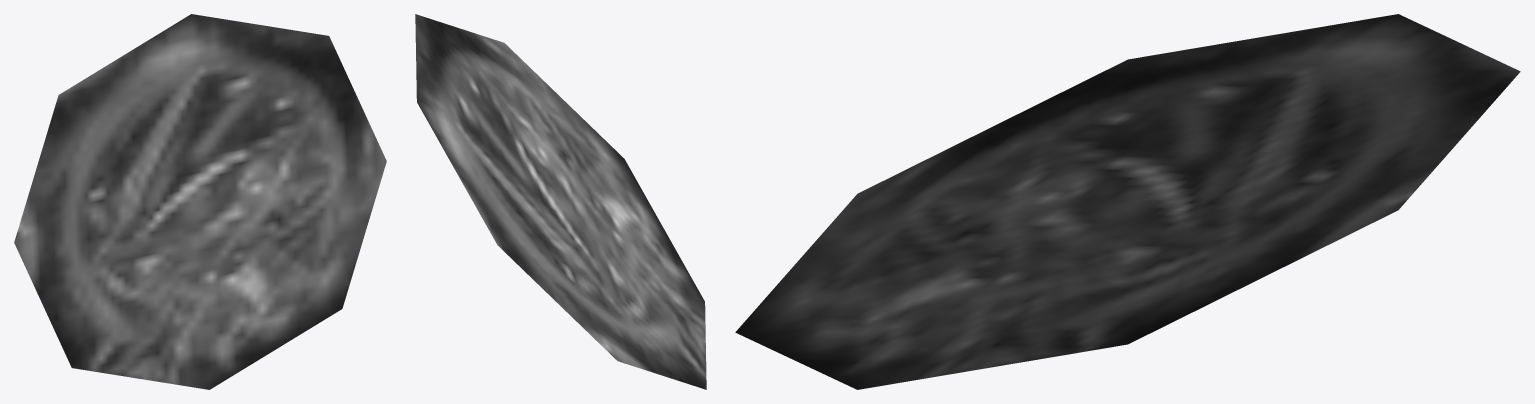
File: bubble_popped.fbx
The picture shows the model from 3 angles, left to right: view 1: azimuth 30°, elevation 25°; view 2: azimuth 150°, elevation 25°; view 3: azimuth 270°, elevation 25°; orthographic projection. The views are drawn at different scales.
Parts seen in each view (by area): view 1: BubbleWrap_Popped; view 2: BubbleWrap_Popped; view 3: BubbleWrap_Popped.
Part boxes in pixels (<box>): BubbleWrap_Popped: <box>14,14,386,389</box>; BubbleWrap_Popped: <box>415,14,706,389</box>; BubbleWrap_Popped: <box>735,14,1520,389</box>.
Bounding box in the file's own units: 16.99 × 16.99 × 22.66.
